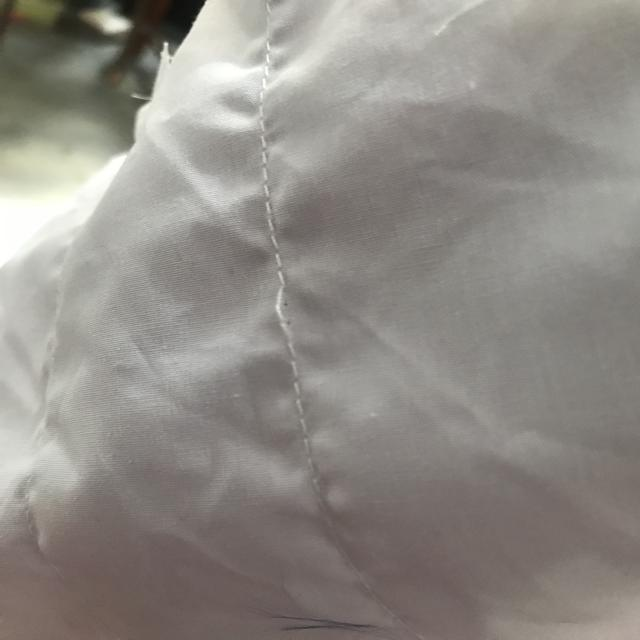good: (249, 126, 285, 231)
skip: (264, 270, 308, 360)
